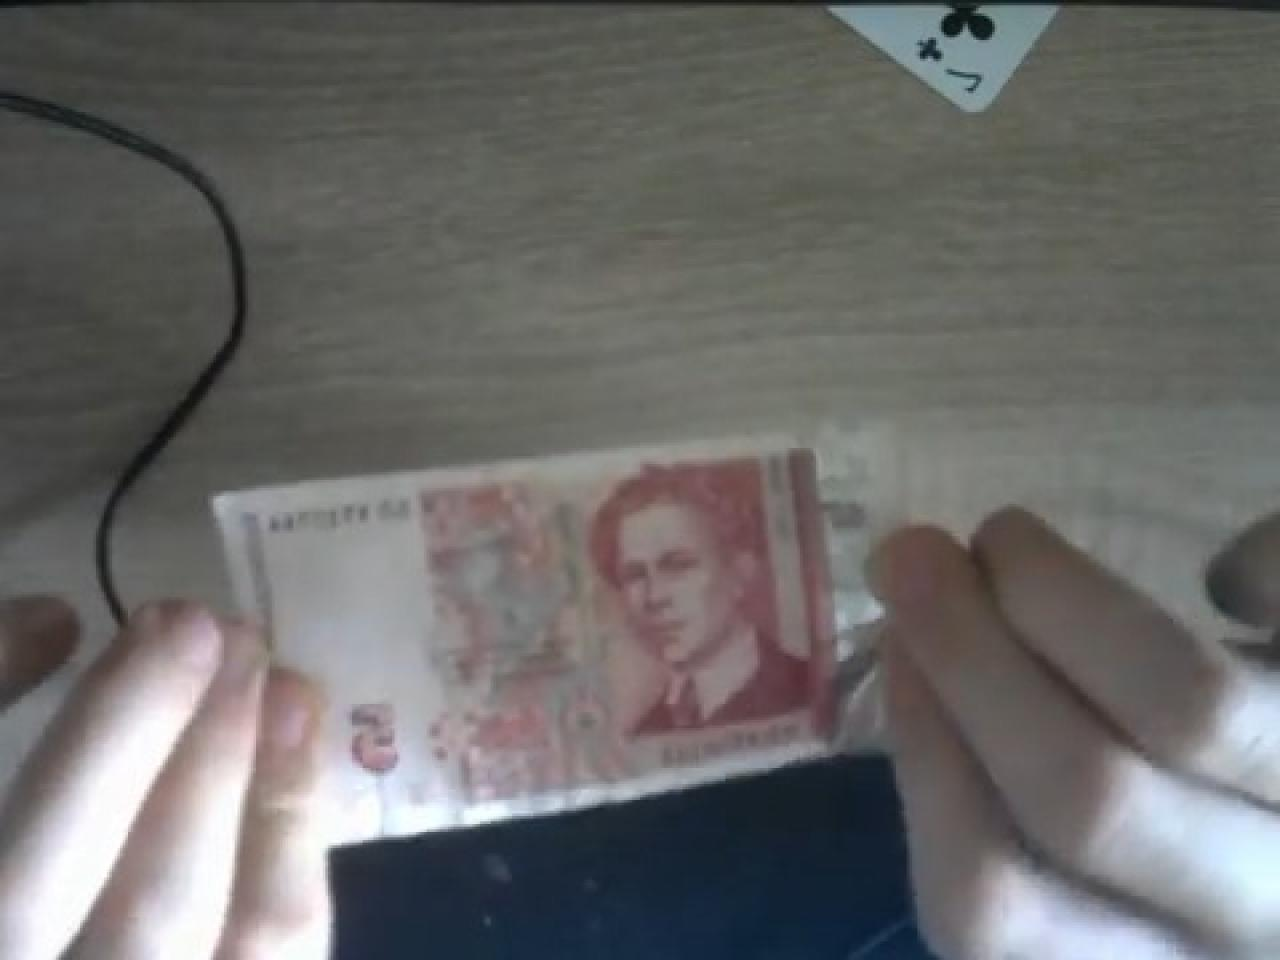5leva: (0, 21, 1280, 960)
